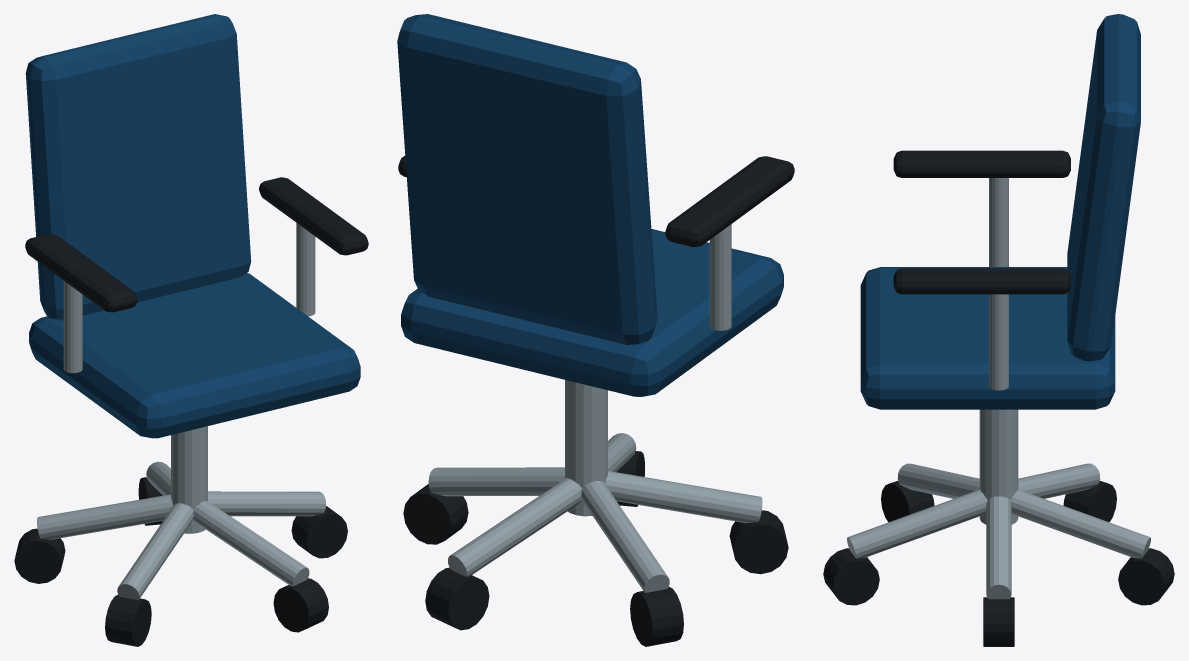
Rendered from edited.glb.
3 views of the same model, side by side, from view 1: azimuth 30°, elevation 25°; view 2: azimuth 150°, elevation 25°; view 3: azimuth 270°, elevation 25° (orthographic). The views are drawn at different scales.
Parts seen in each view (by area): view 1: BACK_Cushion, SEAT_Cushion, ARM_Pad.001, ARM_Pad, BASE_Spoke.003, BASE_Spoke, GAS_Lift, BASE_Spoke.001, BASE_Spoke.004, CASTER_Wheel, CASTER_Wheel.003, CASTER_Wheel.001 (+4 smaller); view 2: BACK_Cushion, SEAT_Cushion, ARM_Pad.001, BASE_Spoke.004, GAS_Lift, BASE_Spoke.002, BASE_Spoke.001, BASE_Spoke.003, CASTER_Wheel.002, CASTER_Wheel.004, CASTER_Wheel.001, CASTER_Wheel.003 (+2 smaller); view 3: SEAT_Cushion, BACK_Cushion, ARM_Pad.001, ARM_Pad, BASE_Spoke.002, BASE_Spoke, GAS_Lift, BASE_Spoke.001, CASTER_Wheel.002, CASTER_Wheel, ARM_Post, BASE_Spoke.003 (+5 smaller).
Part boxes in pixels (bbox=[...]): BACK_Cushion: bbox=[25, 14, 251, 320]; SEAT_Cushion: bbox=[29, 273, 360, 438]; ARM_Pad.001: bbox=[25, 234, 137, 312]; ARM_Pad: bbox=[259, 177, 368, 255]; BASE_Spoke.003: bbox=[37, 494, 172, 539]; BASE_Spoke: bbox=[193, 500, 309, 586]; GAS_Lift: bbox=[171, 426, 207, 533]; BASE_Spoke.001: bbox=[208, 491, 325, 516]; BASE_Spoke.004: bbox=[117, 503, 193, 600]; CASTER_Wheel: bbox=[273, 578, 328, 632]; CASTER_Wheel.003: bbox=[14, 528, 65, 583]; CASTER_Wheel.001: bbox=[291, 506, 347, 558]; BACK_Cushion: bbox=[397, 14, 657, 344]; SEAT_Cushion: bbox=[401, 229, 783, 396]; ARM_Pad.001: bbox=[665, 156, 794, 246]; BASE_Spoke.004: bbox=[605, 471, 762, 523]; GAS_Lift: bbox=[565, 380, 607, 516]; BASE_Spoke.002: bbox=[448, 478, 581, 576]; BASE_Spoke.001: bbox=[428, 467, 564, 496]; BASE_Spoke.003: bbox=[581, 481, 669, 592]; CASTER_Wheel.002: bbox=[425, 567, 489, 630]; CASTER_Wheel.004: bbox=[729, 510, 788, 574]; CASTER_Wheel.001: bbox=[403, 484, 468, 544]; CASTER_Wheel.003: bbox=[630, 587, 683, 646]; SEAT_Cushion: bbox=[860, 267, 1115, 409]; BACK_Cushion: bbox=[1067, 14, 1140, 361]; ARM_Pad.001: bbox=[893, 150, 1070, 177]; ARM_Pad: bbox=[893, 268, 1070, 294]; BASE_Spoke.002: bbox=[1010, 489, 1150, 558]; BASE_Spoke: bbox=[847, 489, 987, 558]; GAS_Lift: bbox=[979, 409, 1018, 524]; BASE_Spoke.001: bbox=[986, 496, 1011, 599]; CASTER_Wheel.002: bbox=[1118, 548, 1174, 605]; CASTER_Wheel: bbox=[823, 548, 879, 605]; ARM_Post: bbox=[989, 294, 1008, 390]; BASE_Spoke.003: bbox=[1018, 463, 1100, 498].
Bounding box in the file's own units: 0.61 × 1.04 × 0.6349.
